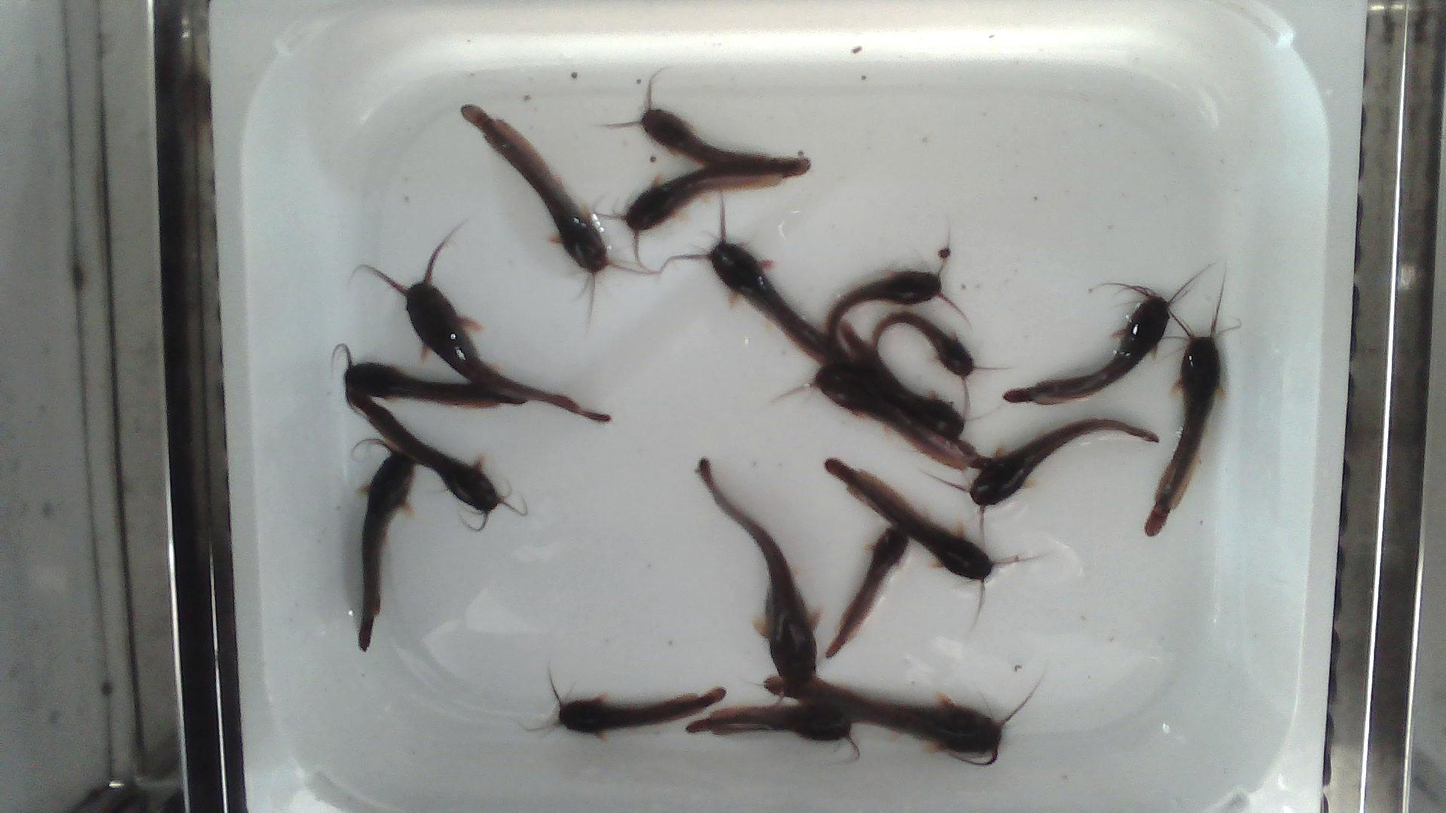lele: (373, 242, 609, 420), (667, 191, 855, 367), (460, 106, 612, 305), (697, 458, 819, 694), (1003, 271, 1201, 404), (345, 392, 528, 535), (966, 419, 1158, 547), (779, 365, 994, 471), (601, 159, 813, 263), (799, 678, 1036, 765), (826, 459, 994, 580), (1145, 302, 1221, 536), (835, 317, 966, 441), (605, 80, 776, 166), (550, 672, 725, 741), (358, 445, 414, 650), (345, 345, 526, 407), (827, 256, 960, 338), (825, 527, 908, 656), (872, 311, 975, 379), (686, 702, 851, 741)
